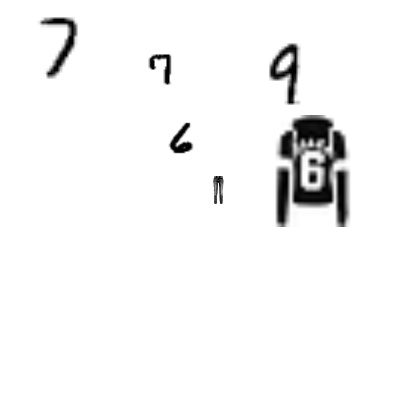6: (160, 120, 202, 162)
7: (20, 0, 104, 84), (141, 44, 183, 86)
9: (243, 26, 327, 110)
Pullover: (257, 115, 369, 227)
Trouser: (204, 176, 232, 204)
